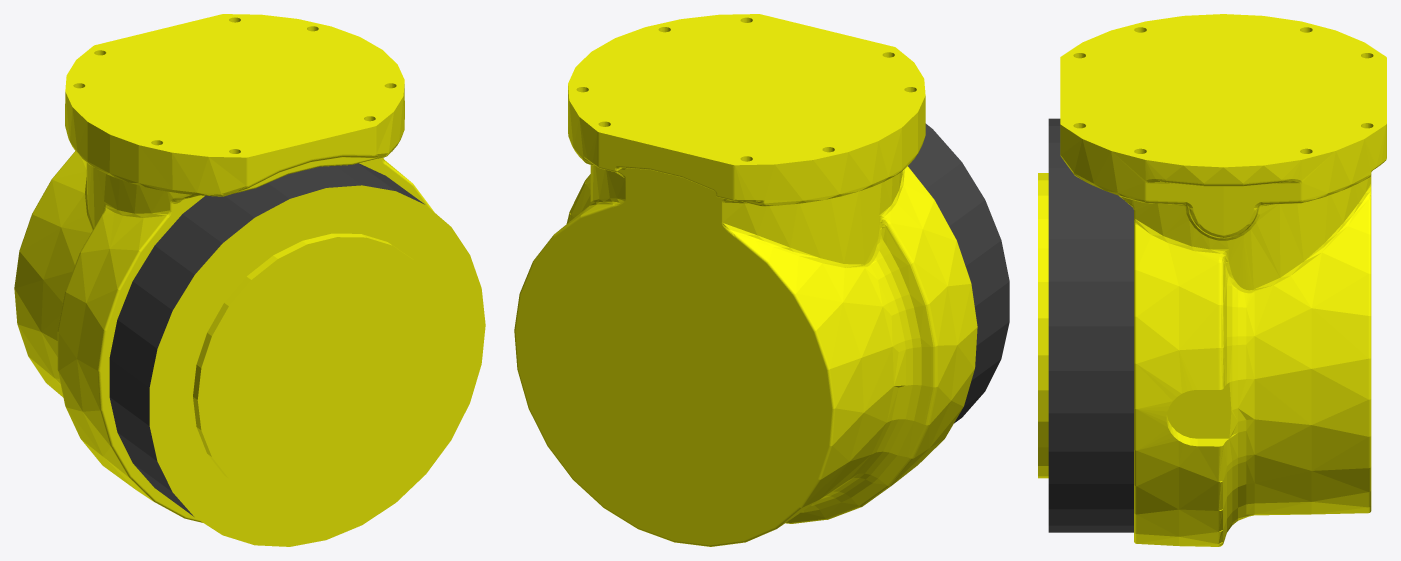
The picture shows the model from 3 angles, left to right: view 1: azimuth 30°, elevation 25°; view 2: azimuth 150°, elevation 25°; view 3: azimuth 270°, elevation 25°; orthographic projection. The views are drawn at different scales.
Parts seen in each view (by area): view 1: node; view 2: node; view 3: node.
Part boxes in pixels (bbox=[...]): node: bbox=[14, 14, 485, 546]; node: bbox=[514, 14, 1009, 546]; node: bbox=[1038, 14, 1386, 546].
Size of the model in its own units: 84.96 by 92.72 by 67.25.
